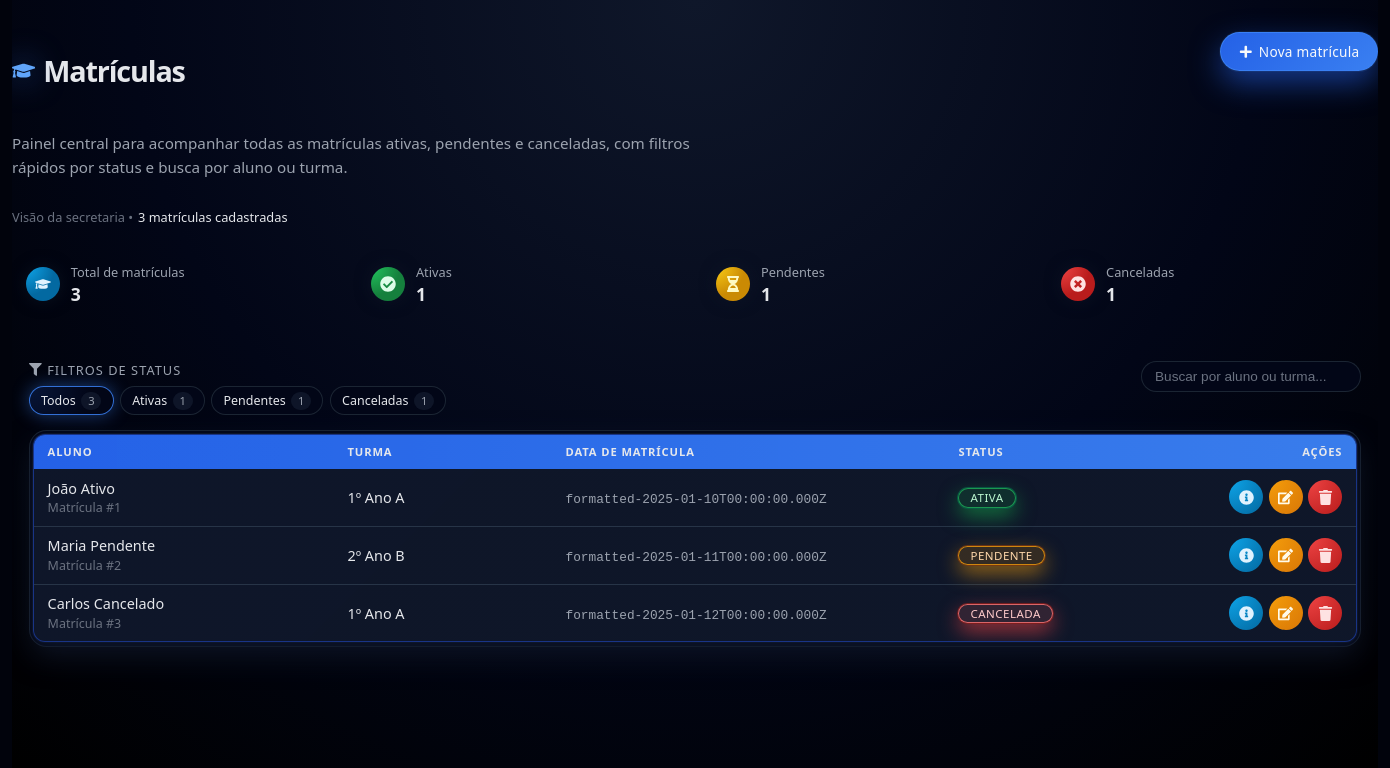
Test: EnrollmentsPage (dashboard) › filtra por status "Ativas"
Step 1. Click the button "Ativas 1" → (162, 400), box [120,386,205,415]
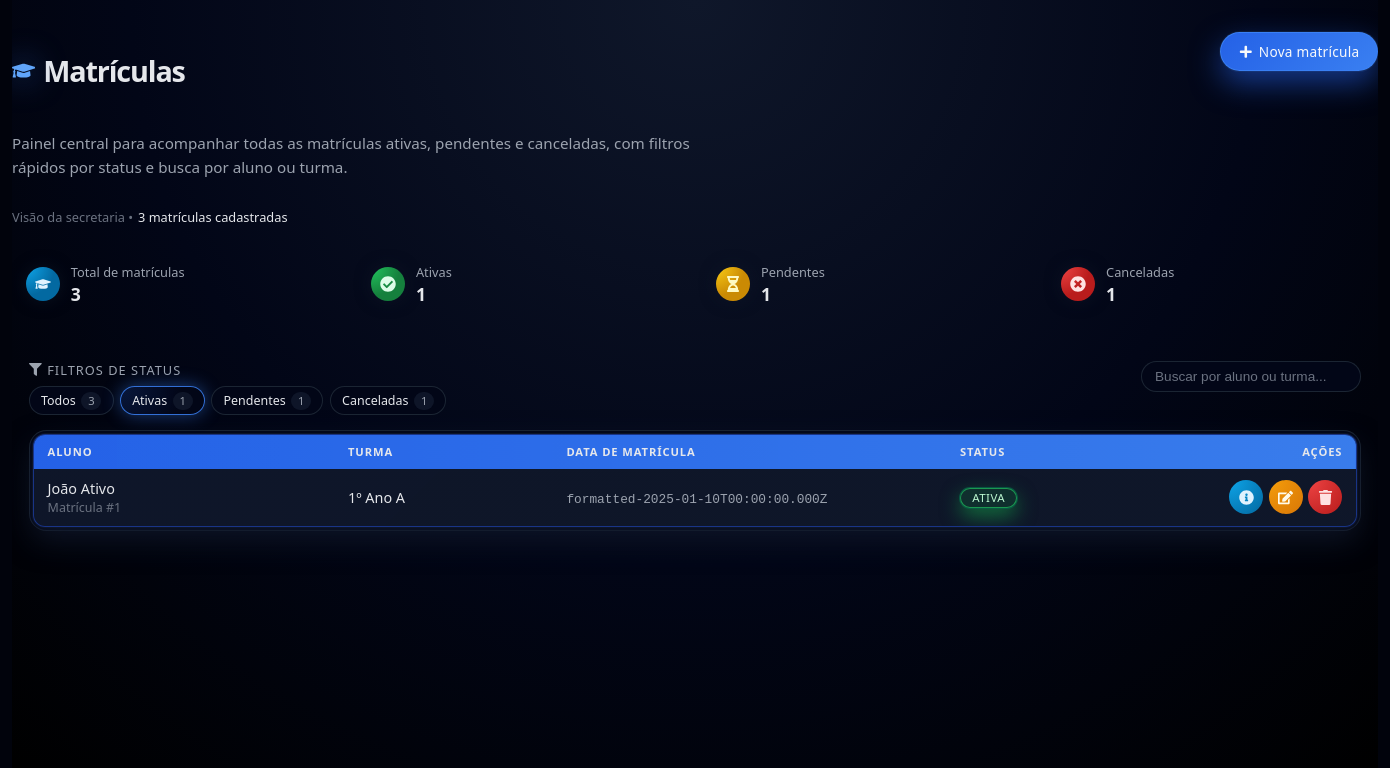
Expected: the text "João Ativo" is shown, [48,479,115,498]
Now the text "Maria Pendente" is gone
Now the text "Carlos Cancelado" is gone
